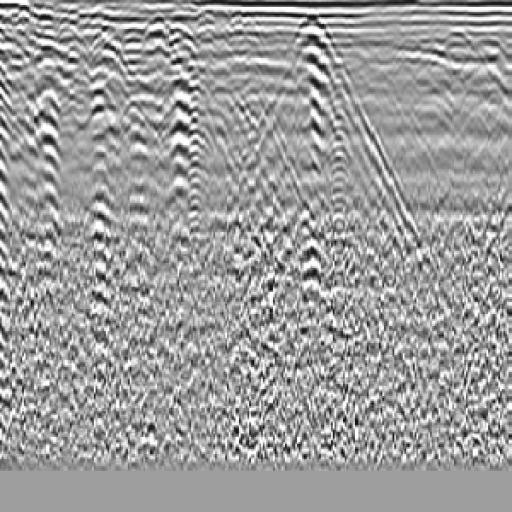metalic: (76, 8, 207, 212)
